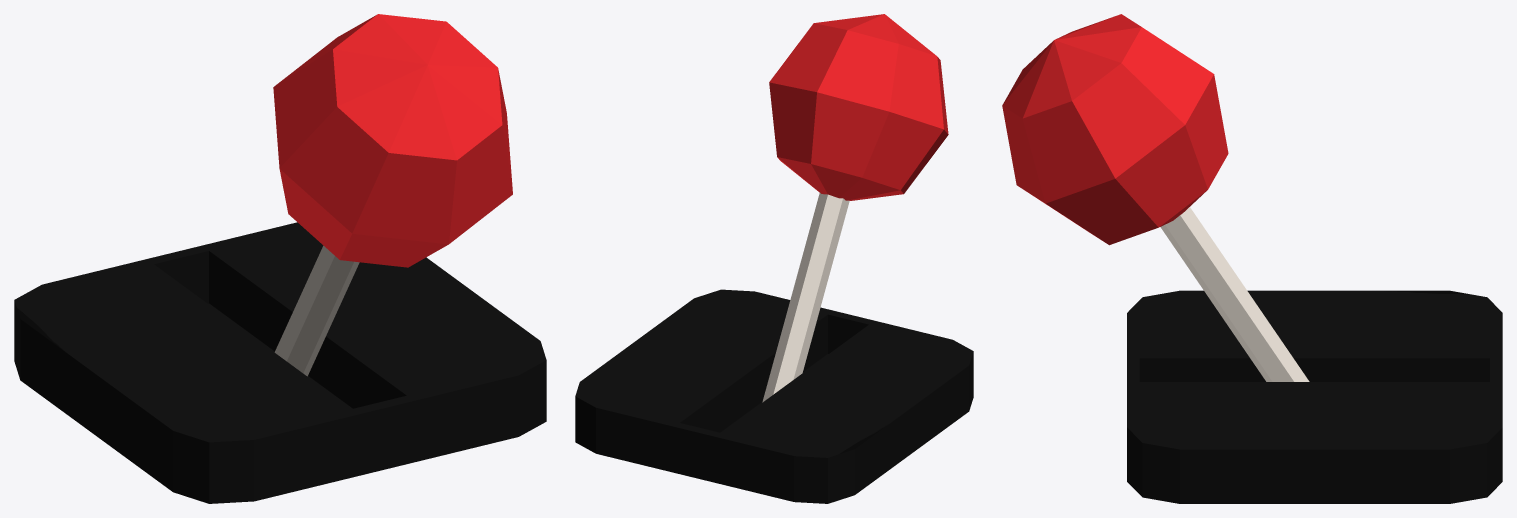
File: lever.obj
The picture shows the model from 3 angles, left to right: view 1: azimuth 30°, elevation 25°; view 2: azimuth 150°, elevation 25°; view 3: azimuth 270°, elevation 25°; orthographic projection. The views are drawn at different scales.
Parts seen in each view (by area): view 1: 円柱; view 2: 円柱; view 3: 円柱.
Boxes of the visible parts, x1,y1,x2,y2 form: 円柱: [14, 14, 546, 503]; 円柱: [575, 14, 973, 503]; 円柱: [1002, 14, 1502, 503].
Size of the model in its own units: 2 by 2.33 by 2.66.
1 material, 1 textured.
